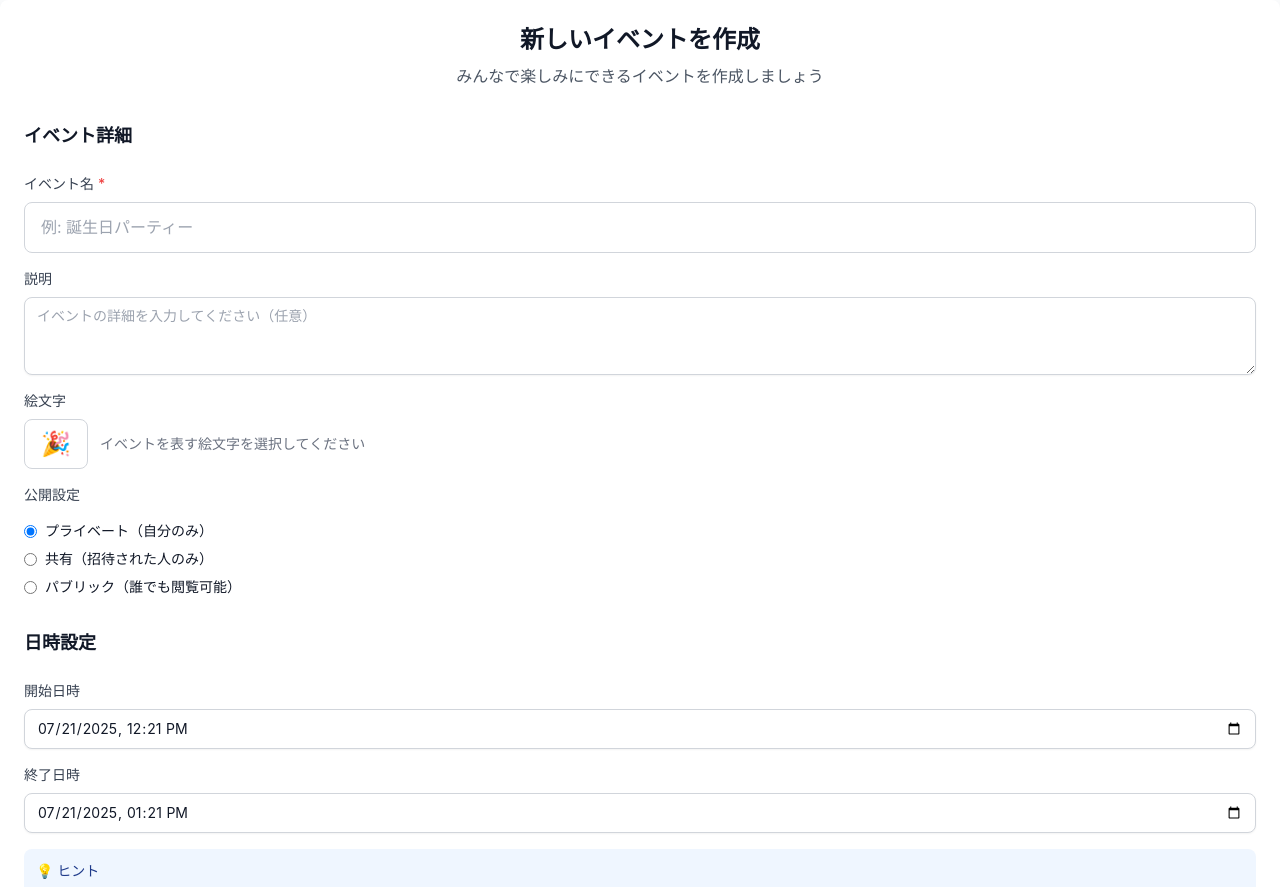
EventCreationForm › validates emoji length
Note: Test max length validation
In the field labelled "絵文字": (56, 444) [24,419,88,469], type "🎉🎊🎈"
(page scrolled)
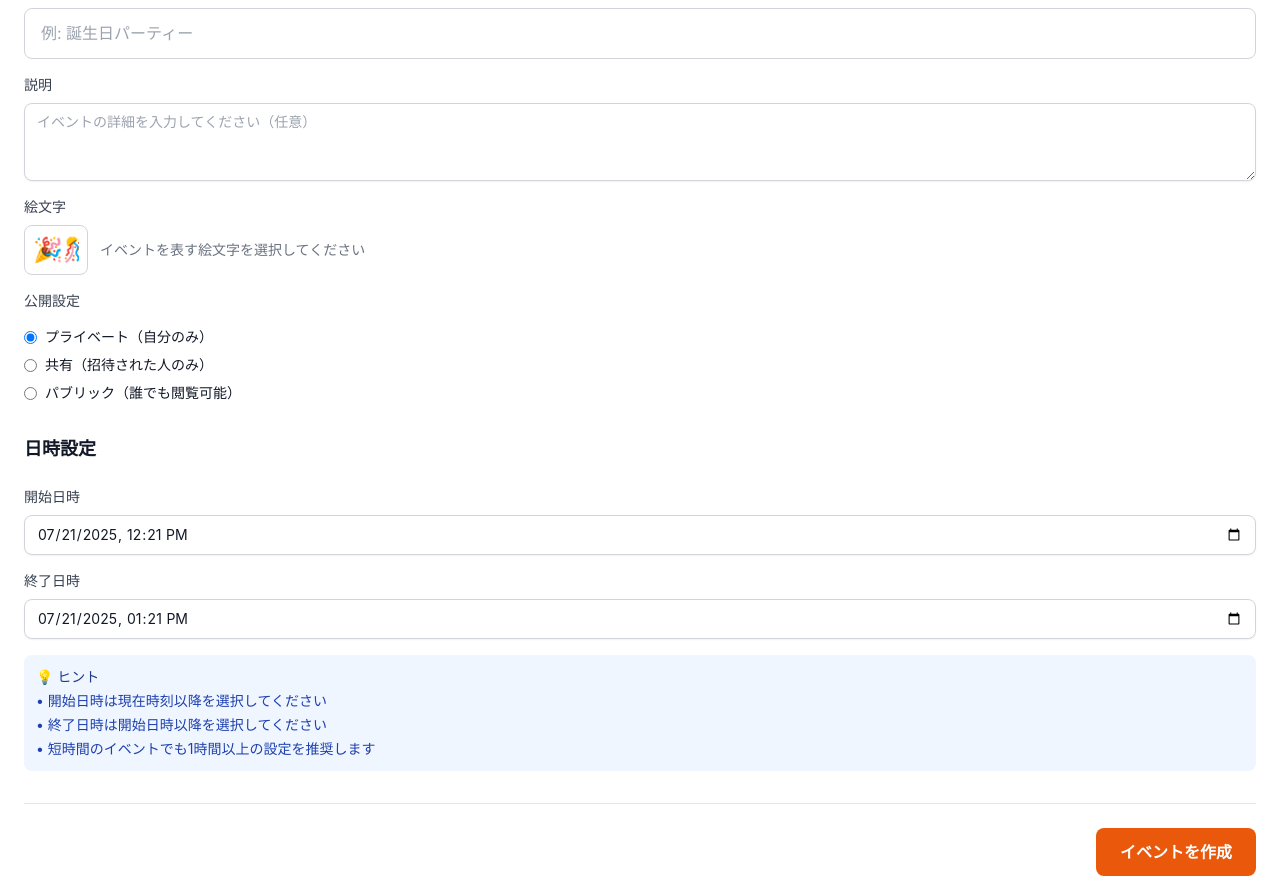
Click the button "イベントを作成": click(1176, 852) [1096,828,1256,876]
(page scrolled)
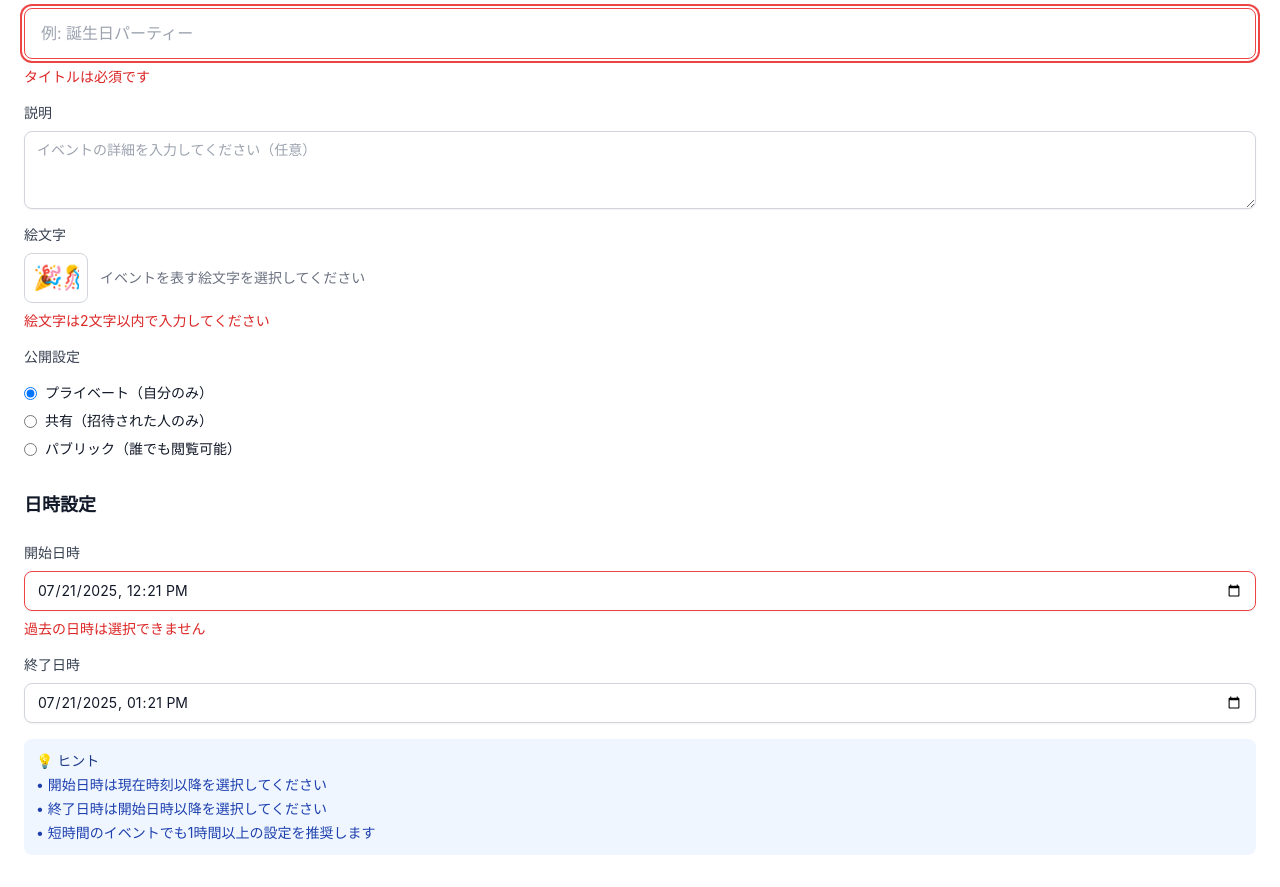
Result: the text "絵文字は2文字以内で入力してください" is shown 2 times
